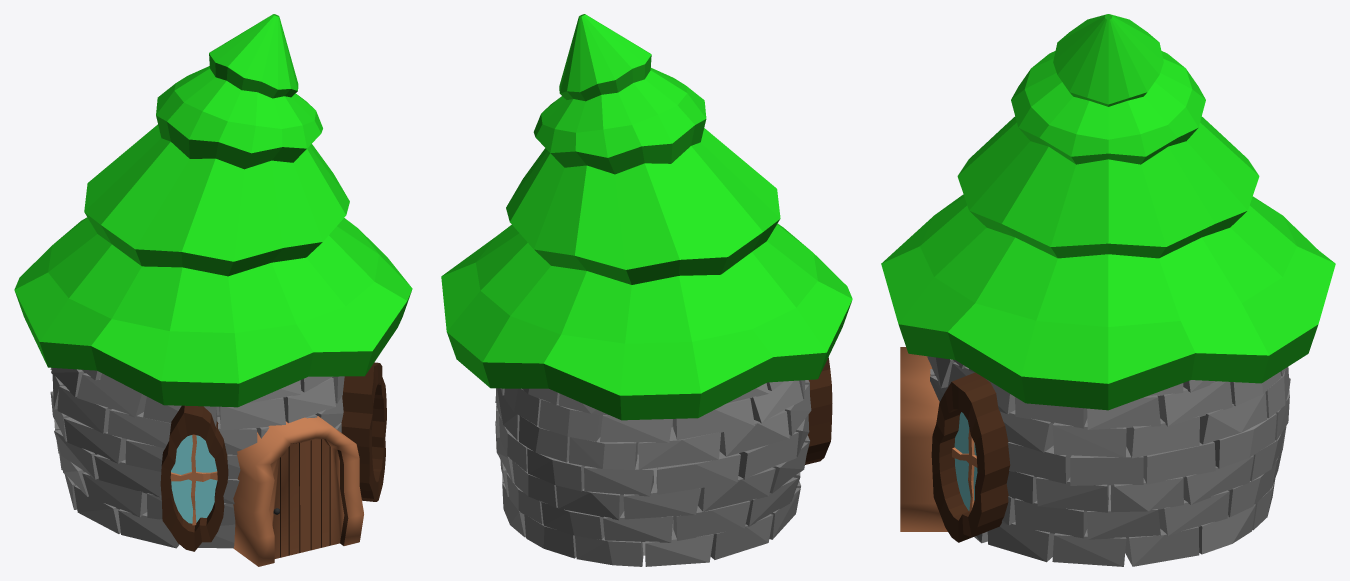
File: BuildersHouse.fbx
The picture shows the model from 3 angles, left to right: view 1: azimuth 30°, elevation 25°; view 2: azimuth 150°, elevation 25°; view 3: azimuth 270°, elevation 25°; orthographic projection. The views are drawn at different scales.
Parts seen in each view (by area): view 1: Bricks; view 2: Bricks; view 3: Bricks.
Part boxes in pixels (x1,y1,x2,y2): Bricks: (14,14,412,566); Bricks: (441,14,852,566); Bricks: (881,14,1335,566).
Bounding box in the file's own units: 69.96 × 88.19 × 69.75.
